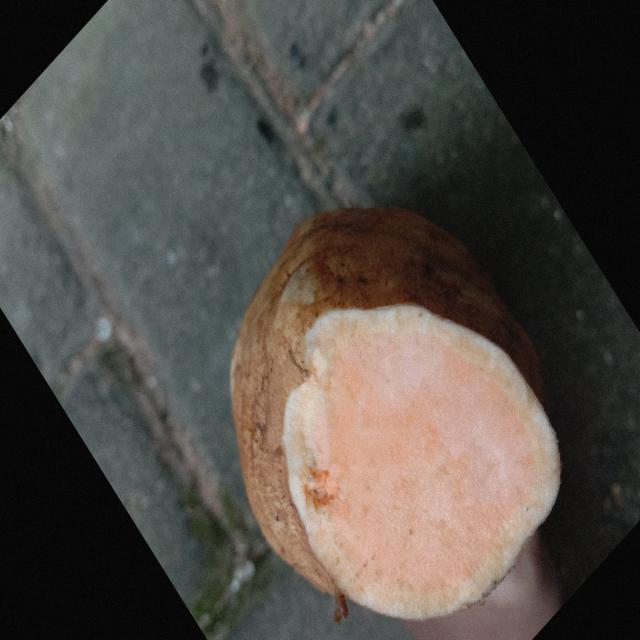Healthy Sweet Potato: (282, 305, 560, 620)
